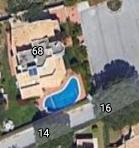pool: (43, 76, 82, 111)
